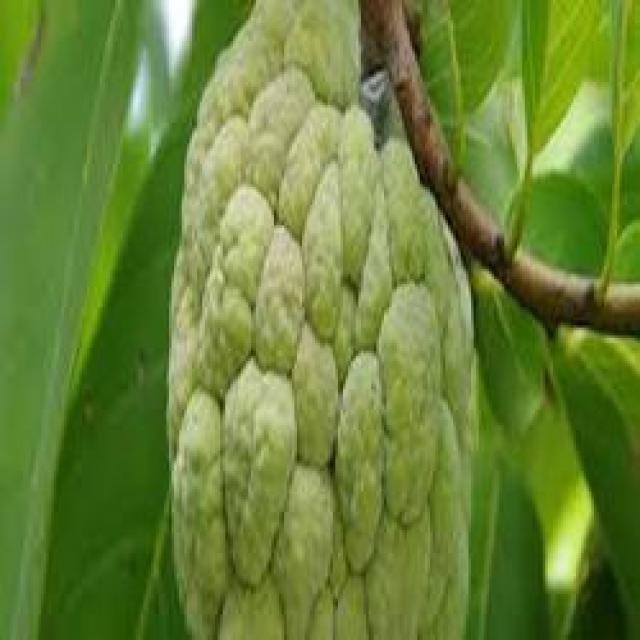apple: (158, 2, 514, 640)
